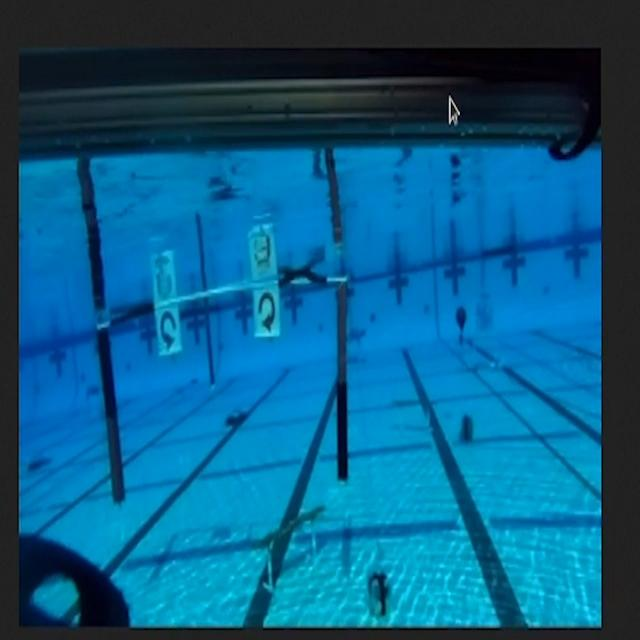Gate: (90, 262, 359, 551)
